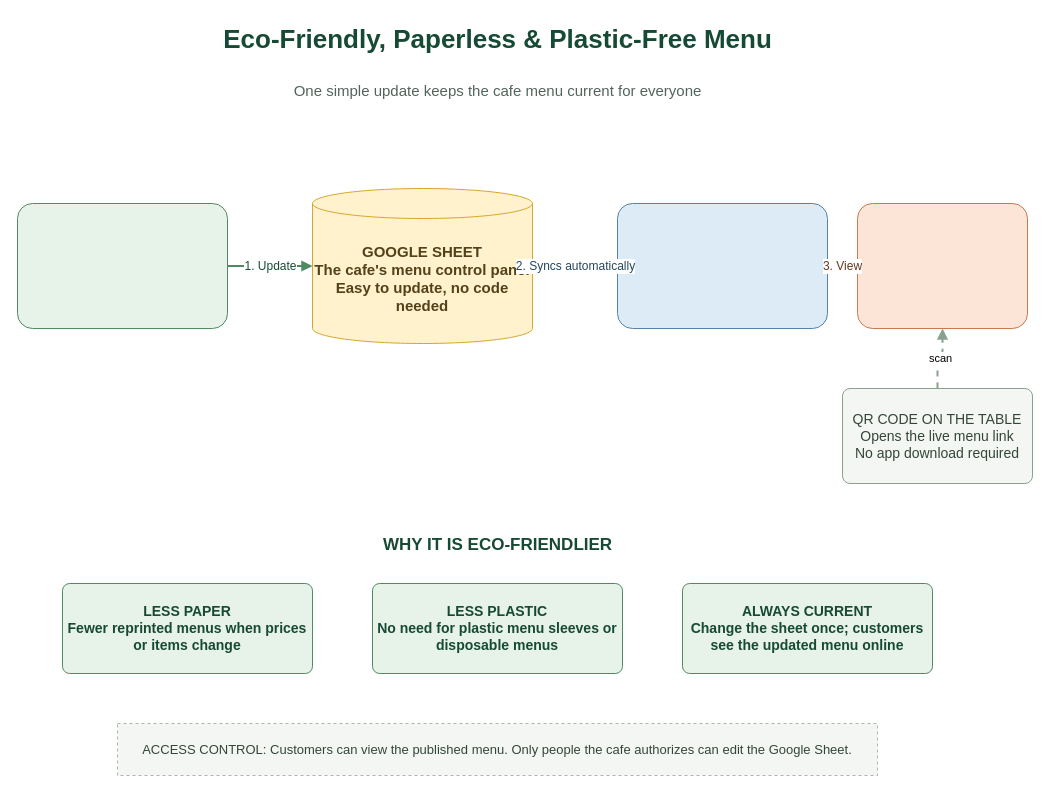
The diagram is 1050 pixels wide and 793 high, and some of its shapes have lost their labels. Here are the shapes that lost their labels. From the top down, the box of each, then its label:
(16, 202, 228, 328): CAFE TEAM Adds or changes items, prices and availability
(616, 202, 828, 328): LIVE DIGITAL MENU A mobile-friendly webpage Shows current items and prices
(856, 202, 1028, 328): CUSTOMER Scans the cafe QR code and views the menu on a phone
